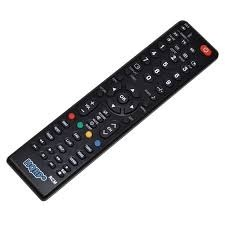remote control: (7, 7, 221, 202)
